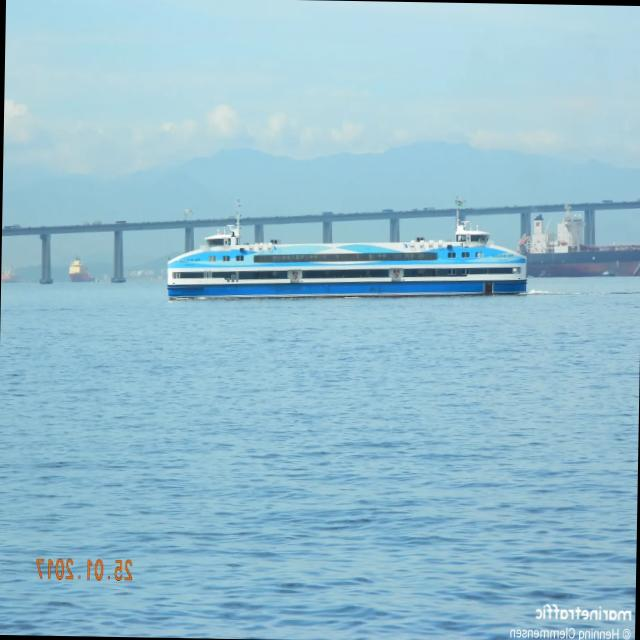Passenger: (167, 199, 526, 299)
Tanker: (526, 205, 640, 276)
